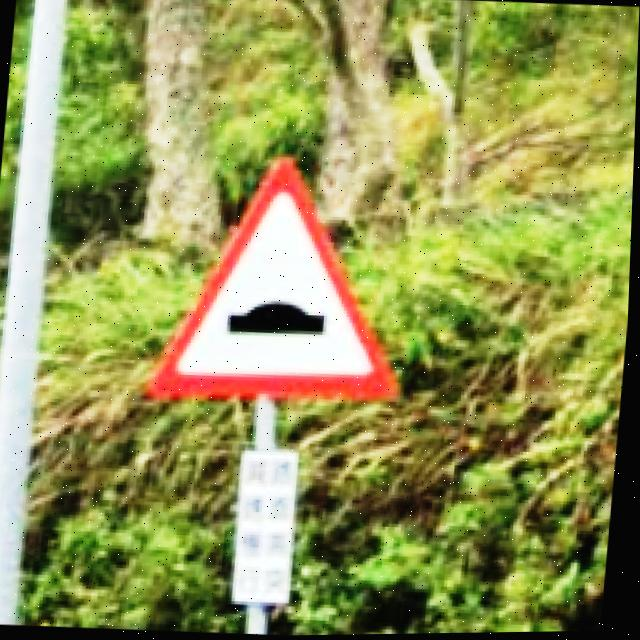hump: (153, 162, 401, 400)
